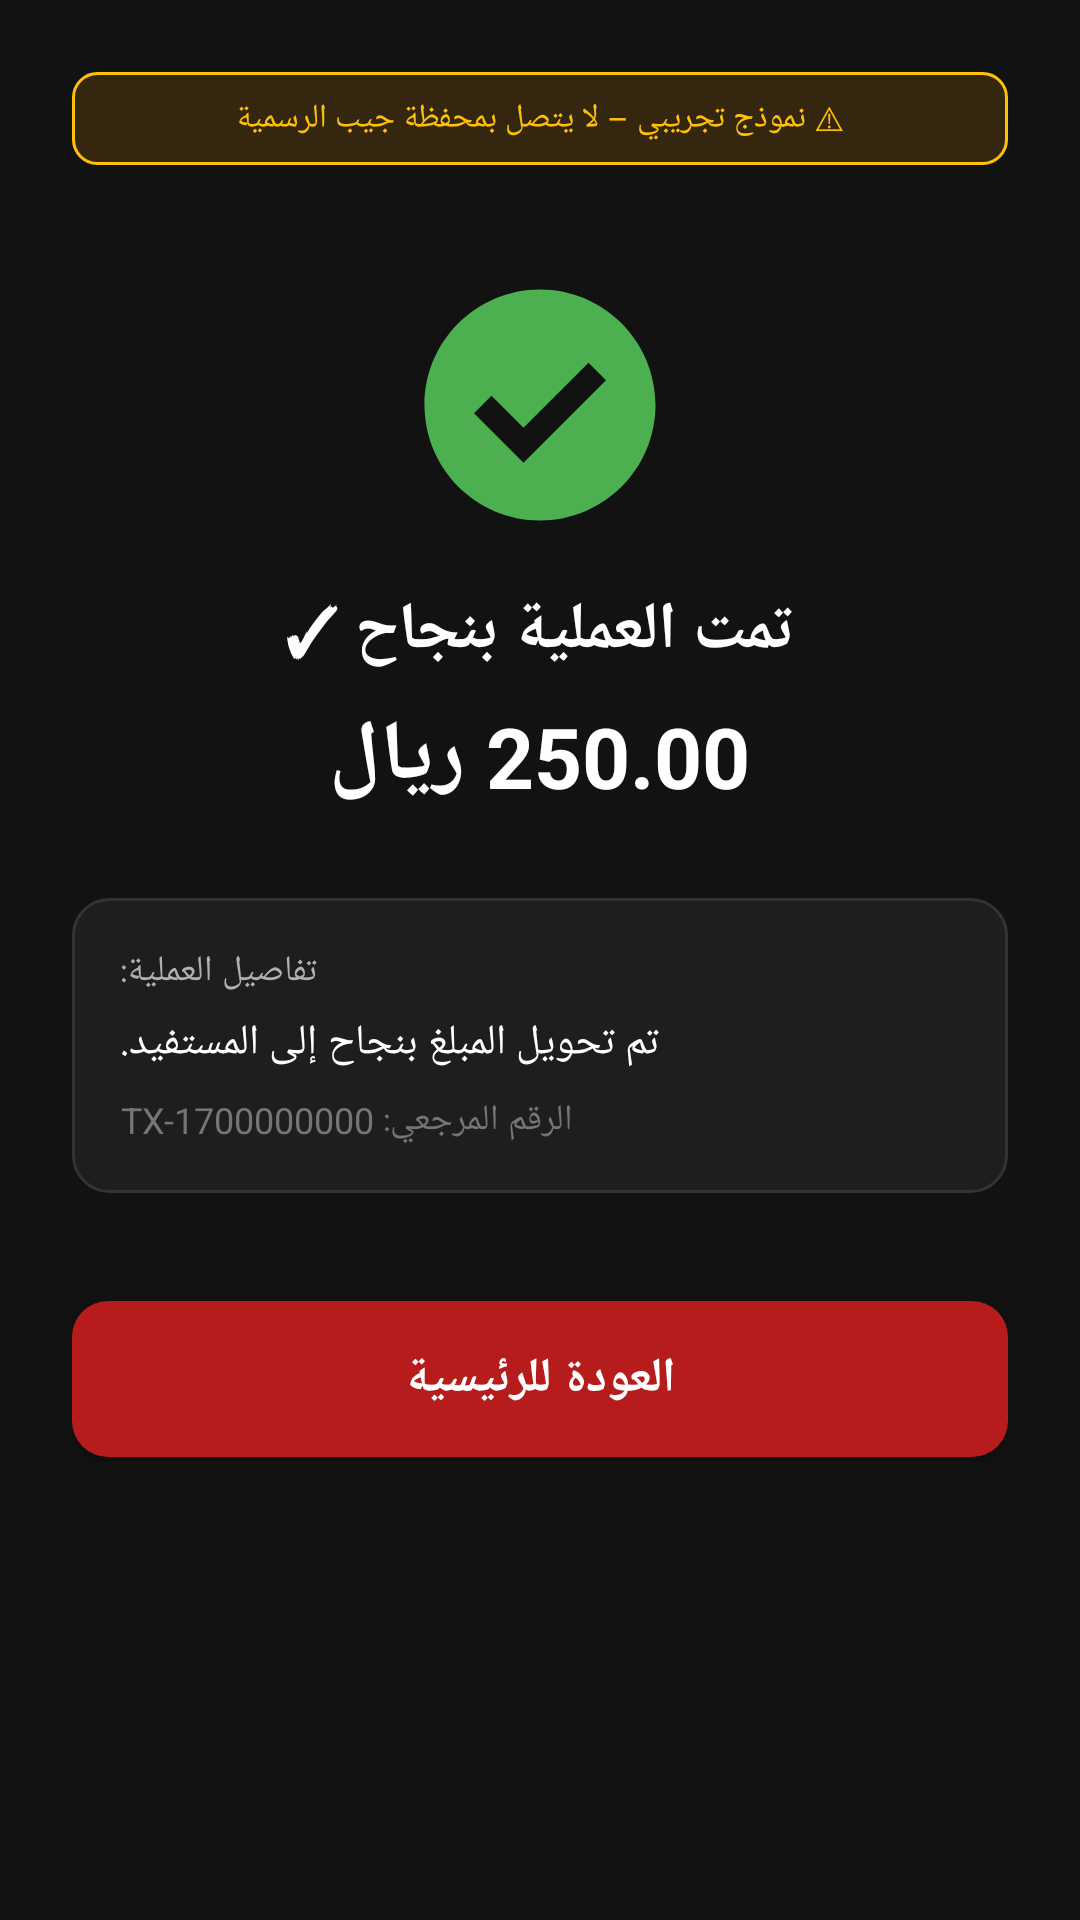

Icon click points for this 1080w x 1920h phone screenshot, format (x,y):
check circle: (540,405)
